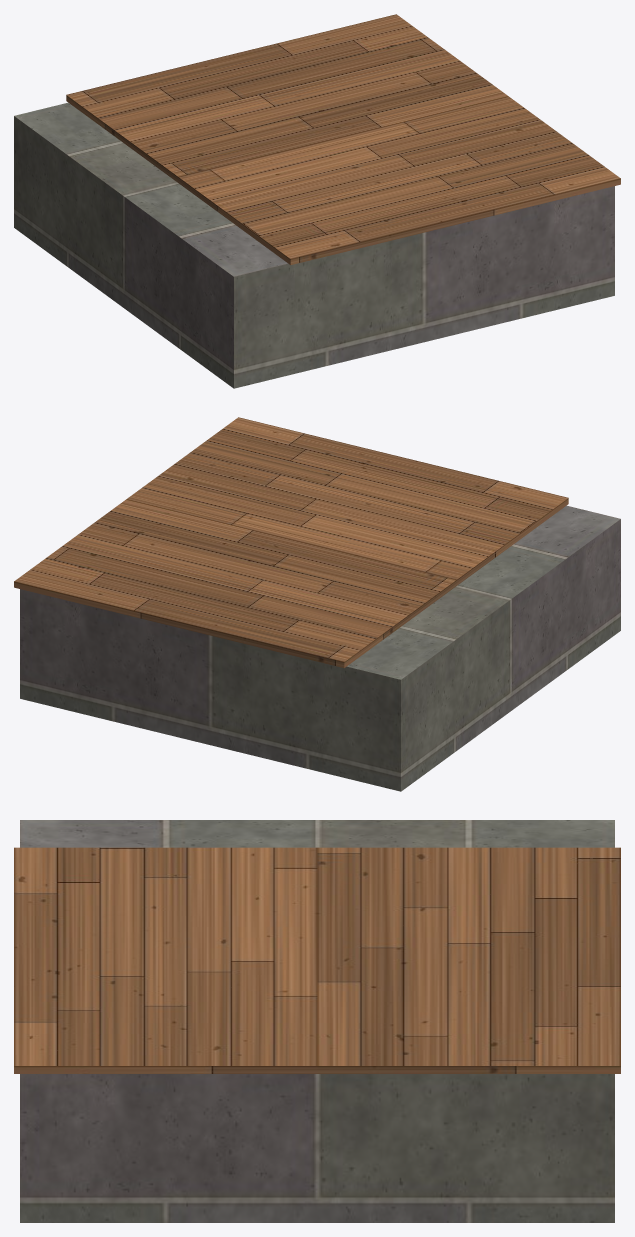
The model's file is floor_floor_g_e1000.glb.
3 renders of one model, top to bottom at view 1: azimuth 30°, elevation 25°; view 2: azimuth 150°, elevation 25°; view 3: azimuth 270°, elevation 25°, orthographic. The views are drawn at different scales.
Parts seen in each view (by area): view 1: floor_floor_g_e1000_plinth, floor_floor_g_e1000_floor; view 2: floor_floor_g_e1000_plinth, floor_floor_g_e1000_floor; view 3: floor_floor_g_e1000_floor, floor_floor_g_e1000_plinth.
Part boxes in pixels (bbox=[...]): floor_floor_g_e1000_plinth: bbox=[14, 102, 614, 388]; floor_floor_g_e1000_floor: bbox=[66, 14, 620, 265]; floor_floor_g_e1000_plinth: bbox=[20, 505, 620, 791]; floor_floor_g_e1000_floor: bbox=[14, 417, 568, 668]; floor_floor_g_e1000_floor: bbox=[14, 847, 620, 1073]; floor_floor_g_e1000_plinth: bbox=[20, 820, 614, 1222].
Size of the model in its own units: 1.98 by 0.58 by 2.
2 materials, 2 textured.
